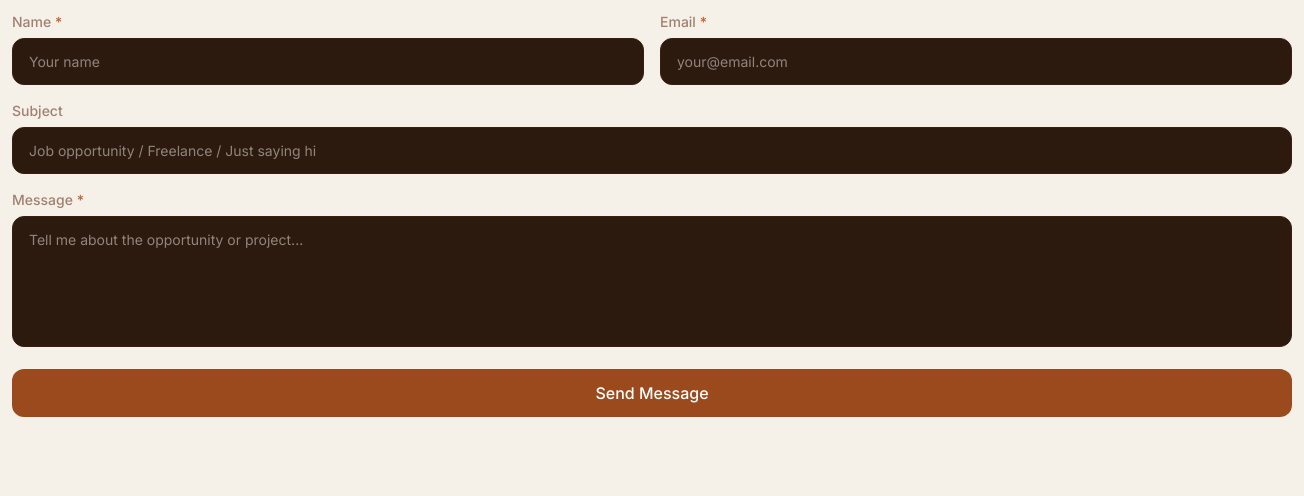
it: ContactForm › shows error message when submission fails
Type "Test" into the field labelled "Name *" at x=328, y=62, box [12,38,644,85]
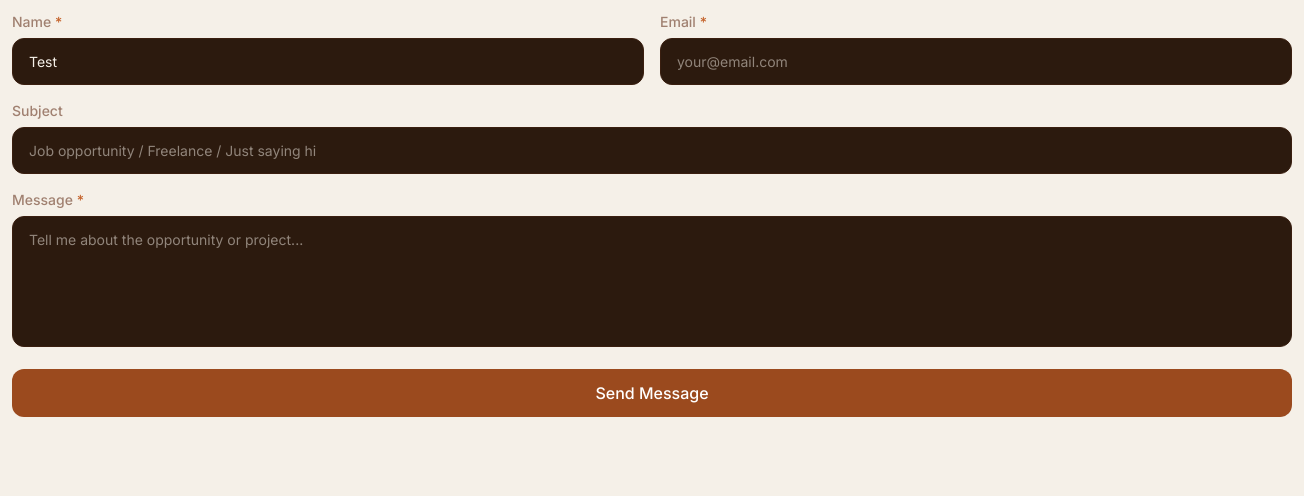
Type "test@test.com" into the field labelled "Email *" at x=976, y=62, box [660,38,1292,85]
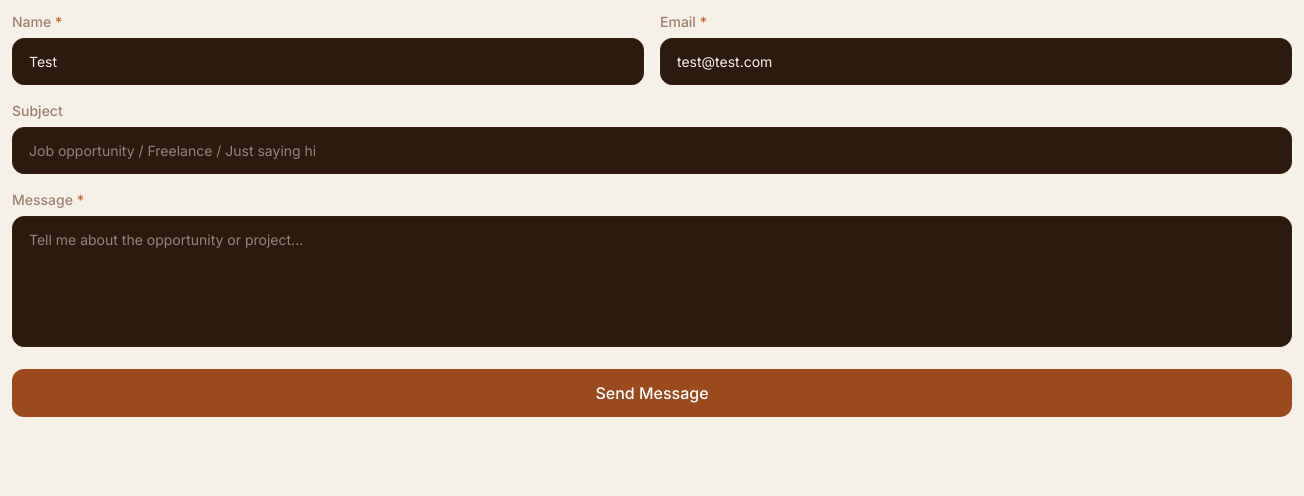
Type "Test message" into the text box labelled "Message *" at x=652, y=282, box [12,216,1292,347]
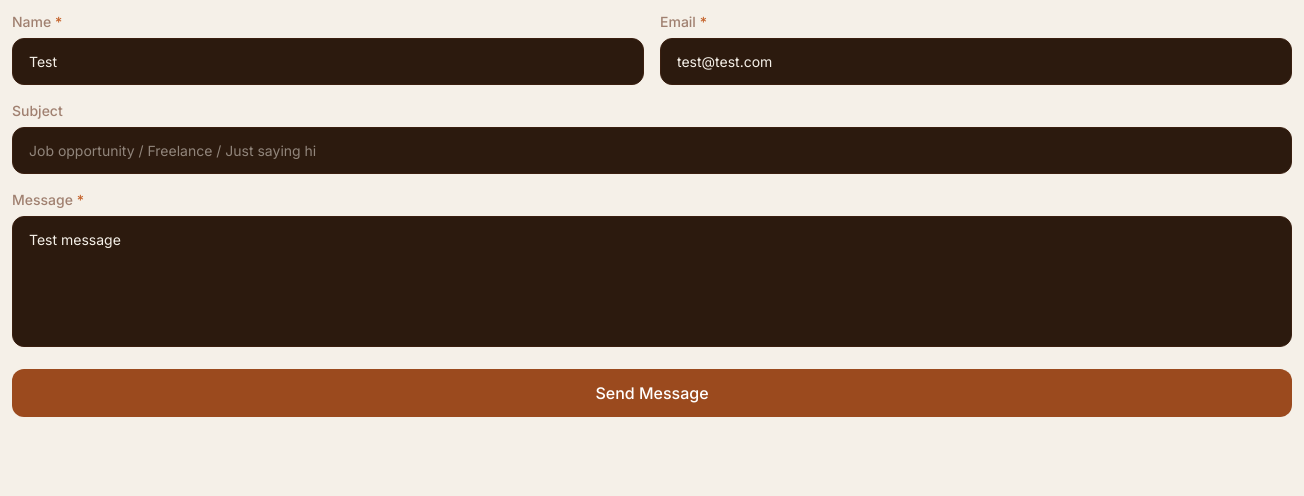
Click the button "Send Message" at x=652, y=393, box [12,369,1292,417]
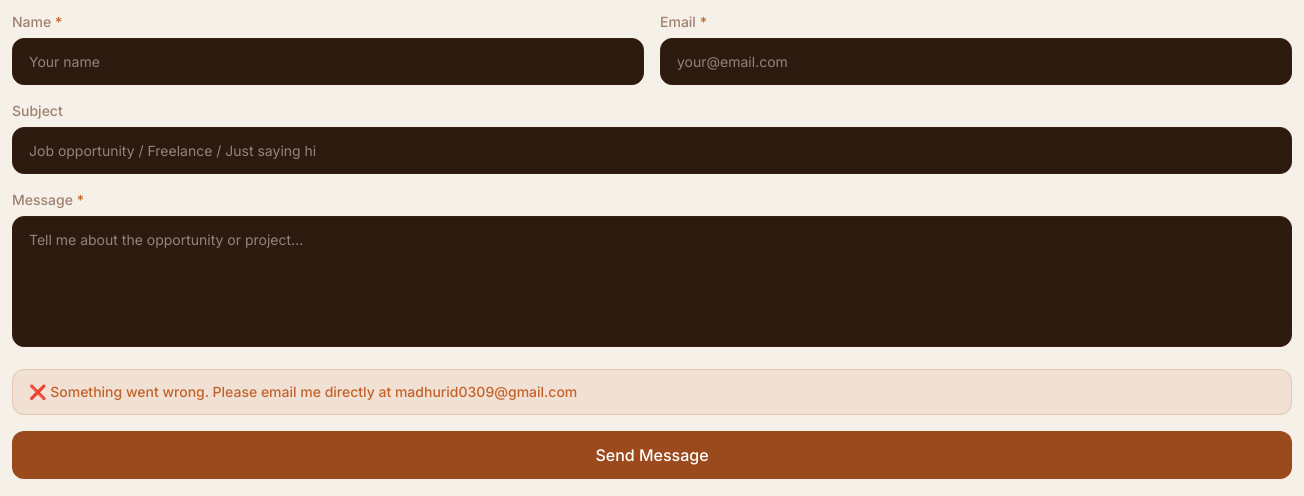
Check: the text "Something went wrong" is shown, box [50,383,577,400]
